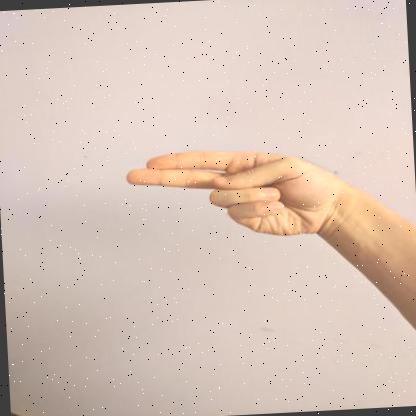H: (126, 150, 348, 237)
